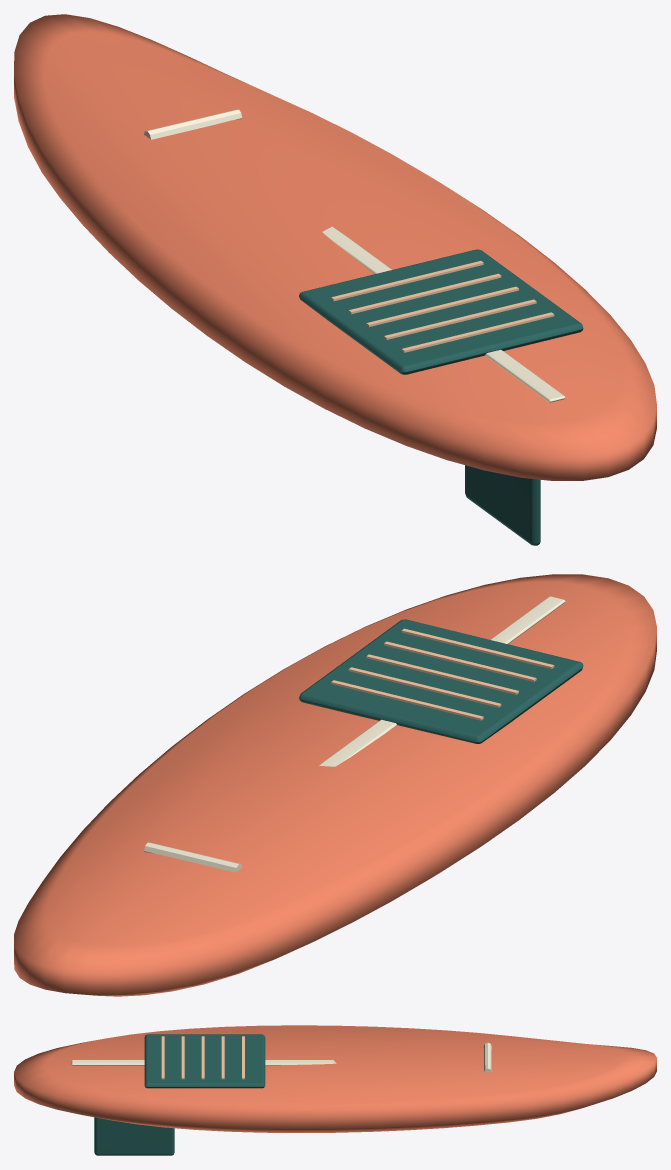
Rendered from surfboard.glb.
3 renders of one model, top to bottom at view 1: azimuth 30°, elevation 25°; view 2: azimuth 150°, elevation 25°; view 3: azimuth 270°, elevation 25°, orthographic. The views are drawn at different scales.
Parts seen in each view (by area): view 1: BoardColor, Deep lagoon.001, Rail, Ivory.001; view 2: BoardColor, Deep lagoon.001, Rail, Ivory.001; view 3: BoardColor, Deep lagoon.001, Ivory.001, Rail.
Boxes of the visible parts, x1,y1,x2,y2 form: BoardColor: (14, 14, 656, 480); Deep lagoon.001: (299, 249, 583, 545); Rail: (331, 261, 554, 352); Ivory.001: (144, 109, 565, 402); BoardColor: (14, 574, 656, 996); Deep lagoon.001: (299, 619, 583, 743); Rail: (331, 628, 554, 720); Ivory.001: (144, 596, 565, 872); BoardColor: (14, 1025, 656, 1132); Deep lagoon.001: (94, 1034, 265, 1155); Ivory.001: (71, 1042, 491, 1072); Rail: (161, 1036, 244, 1079).
Bounding box in the file's own units: 1.23 × 0.66 × 3.84.
